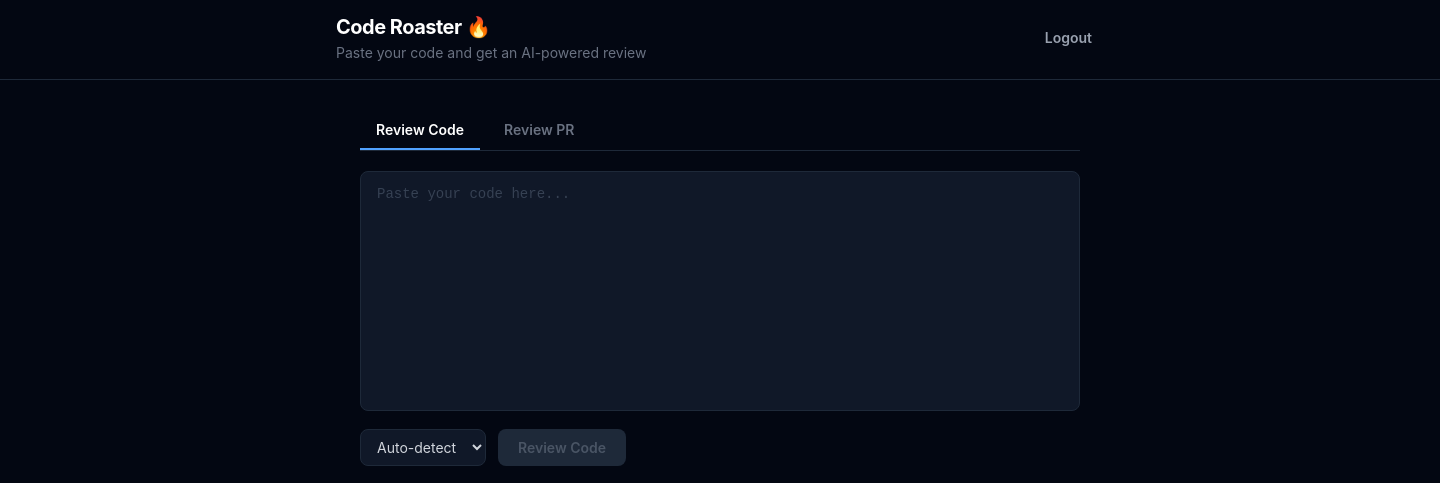
Test: App › shows the PR input once authenticated
The image size is (1440, 483).
Step 1. Click the tab "Review PR" → (539, 131), box [488,112,590,150]
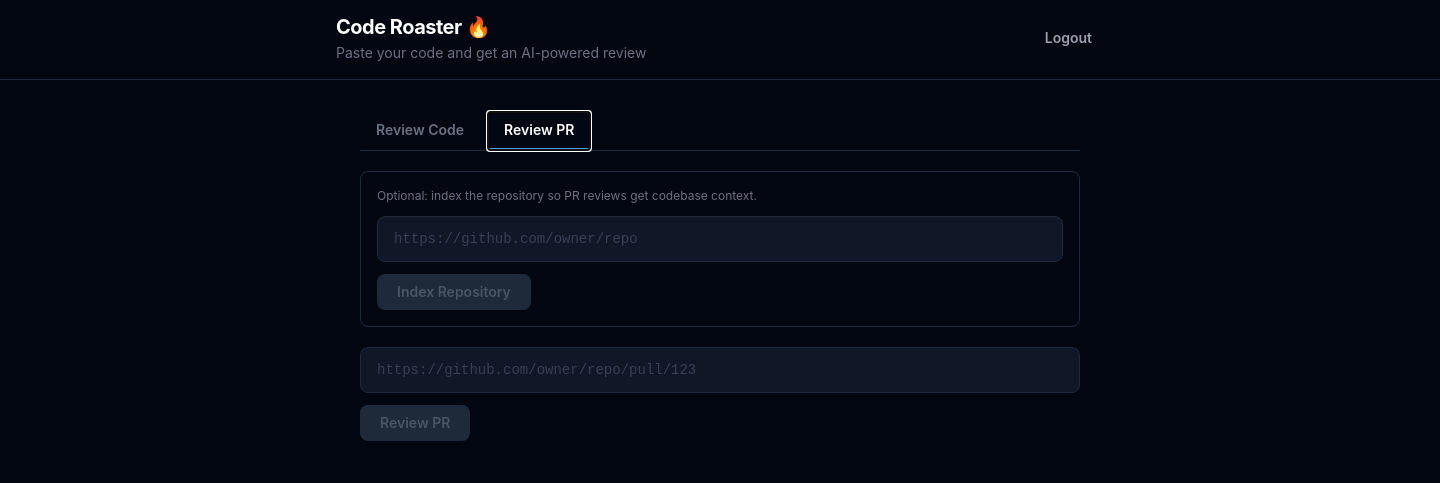
Expected: the field with placeholder "https://github.com/owner/repo/pull/123" is shown, [360,347,1080,393]
Expected: the button "Review PR" is shown, [360,405,470,441]
Expected: the button "Index Repository" is shown, [377,274,531,310]
